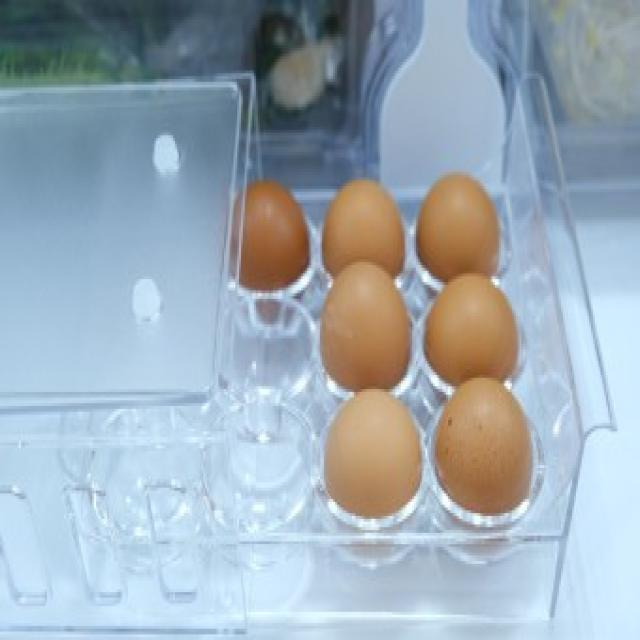eggs: (428, 376, 531, 514), (322, 389, 426, 521), (313, 265, 415, 394), (422, 270, 524, 387), (416, 166, 502, 285), (320, 177, 406, 285), (233, 182, 312, 294)
